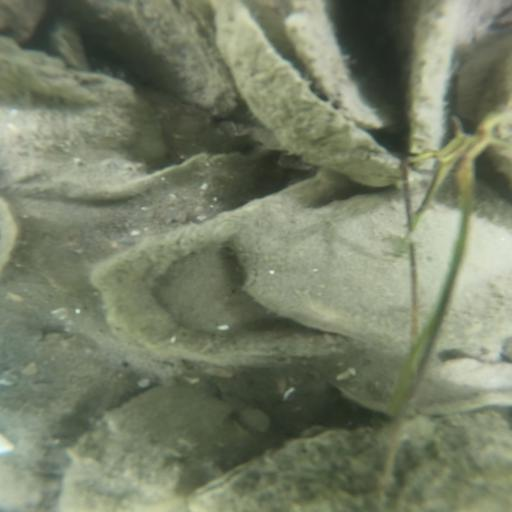Oyster-Closed: (230, 178, 507, 354), (191, 406, 509, 512), (39, 382, 253, 512), (3, 46, 159, 193), (64, 2, 237, 112), (284, 3, 417, 134), (325, 360, 512, 419)
